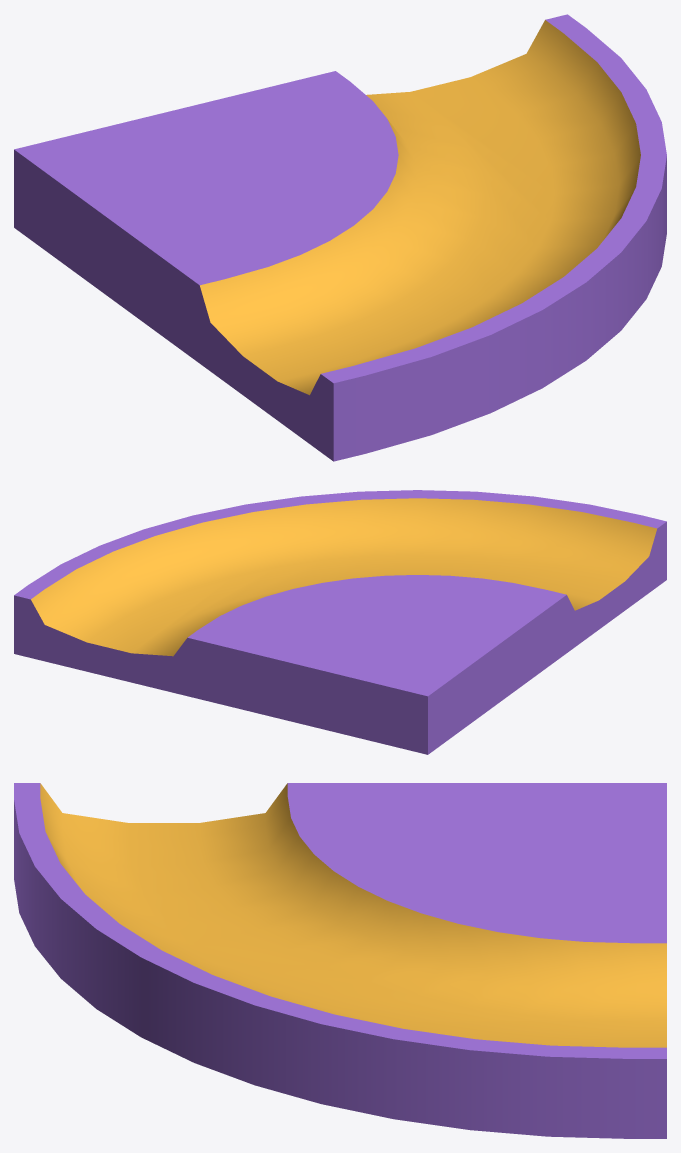
File: curve-wide-solid-large-col.glb
3 views of the same model, one above another, from view 1: azimuth 30°, elevation 25°; view 2: azimuth 150°, elevation 25°; view 3: azimuth 270°, elevation 25° (orthographic). The views are drawn at different scales.
Parts seen in each view (by area): view 1: curve-wide-solid-large-col; view 2: curve-wide-solid-large-col; view 3: curve-wide-solid-large-col.
Part boxes in pixels (<box>): curve-wide-solid-large-col: <box>14,14,666,461</box>; curve-wide-solid-large-col: <box>14,490,666,754</box>; curve-wide-solid-large-col: <box>14,783,666,1138</box>.
Bounding box in the file's own units: 3.7 × 0.5 × 3.7.
Materials: 1 (1 with a texture image).
